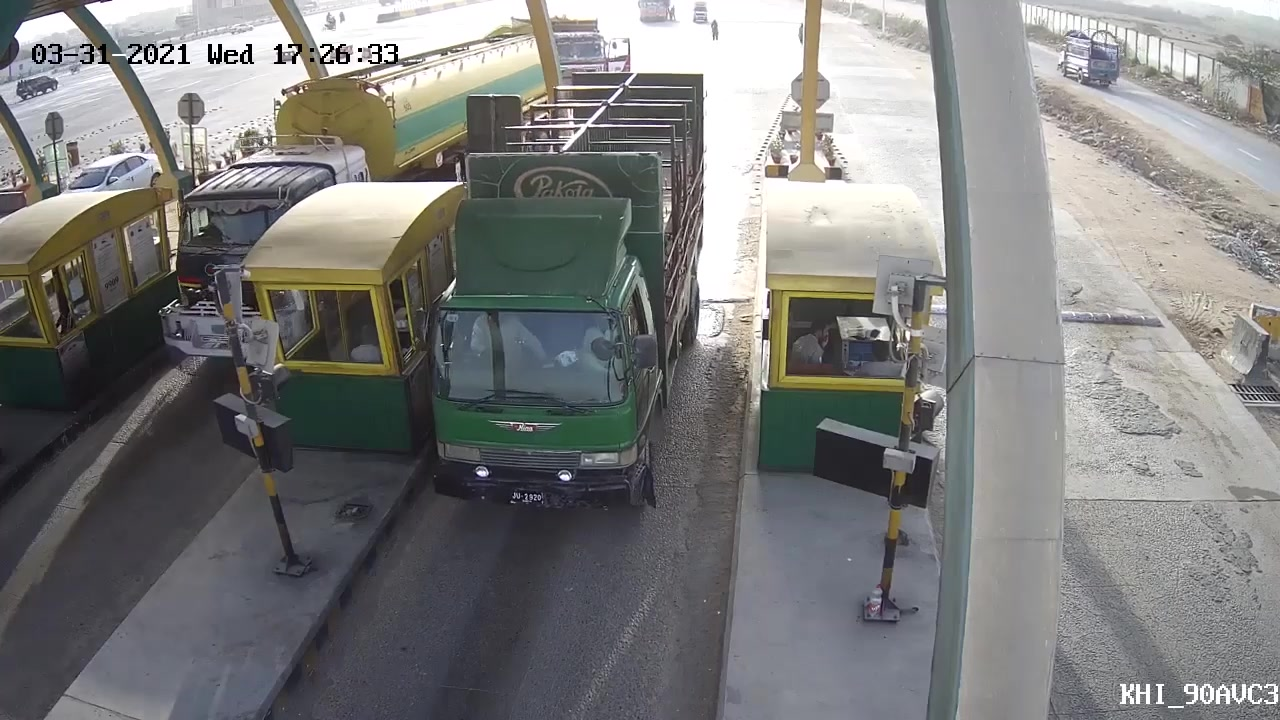F5: (416, 62, 732, 514)
